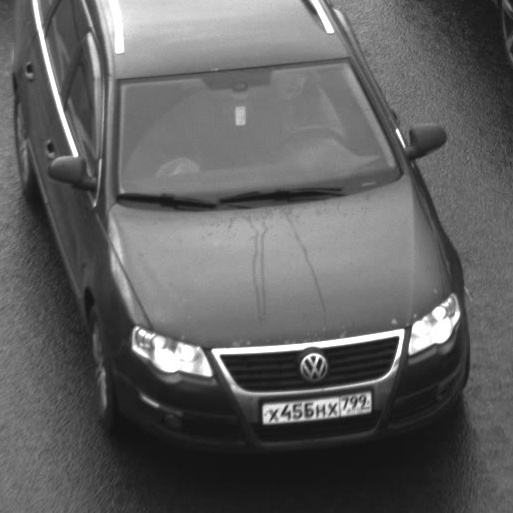plate: (253, 380, 379, 432)
